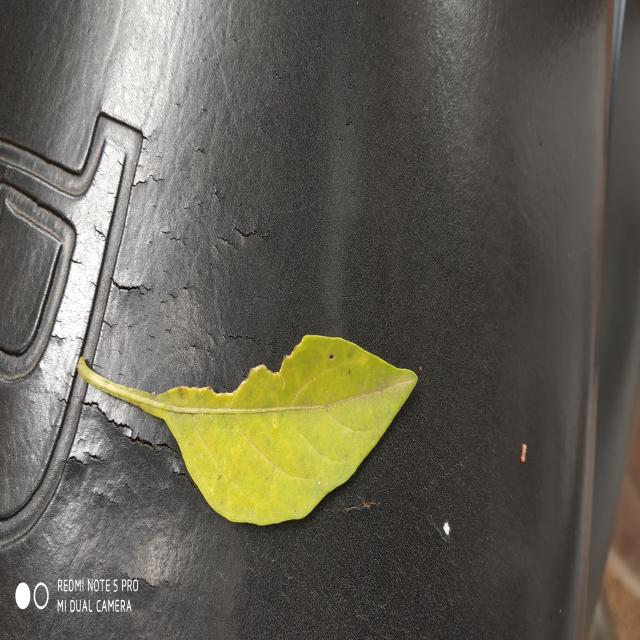ganike: (78, 336, 418, 524)
